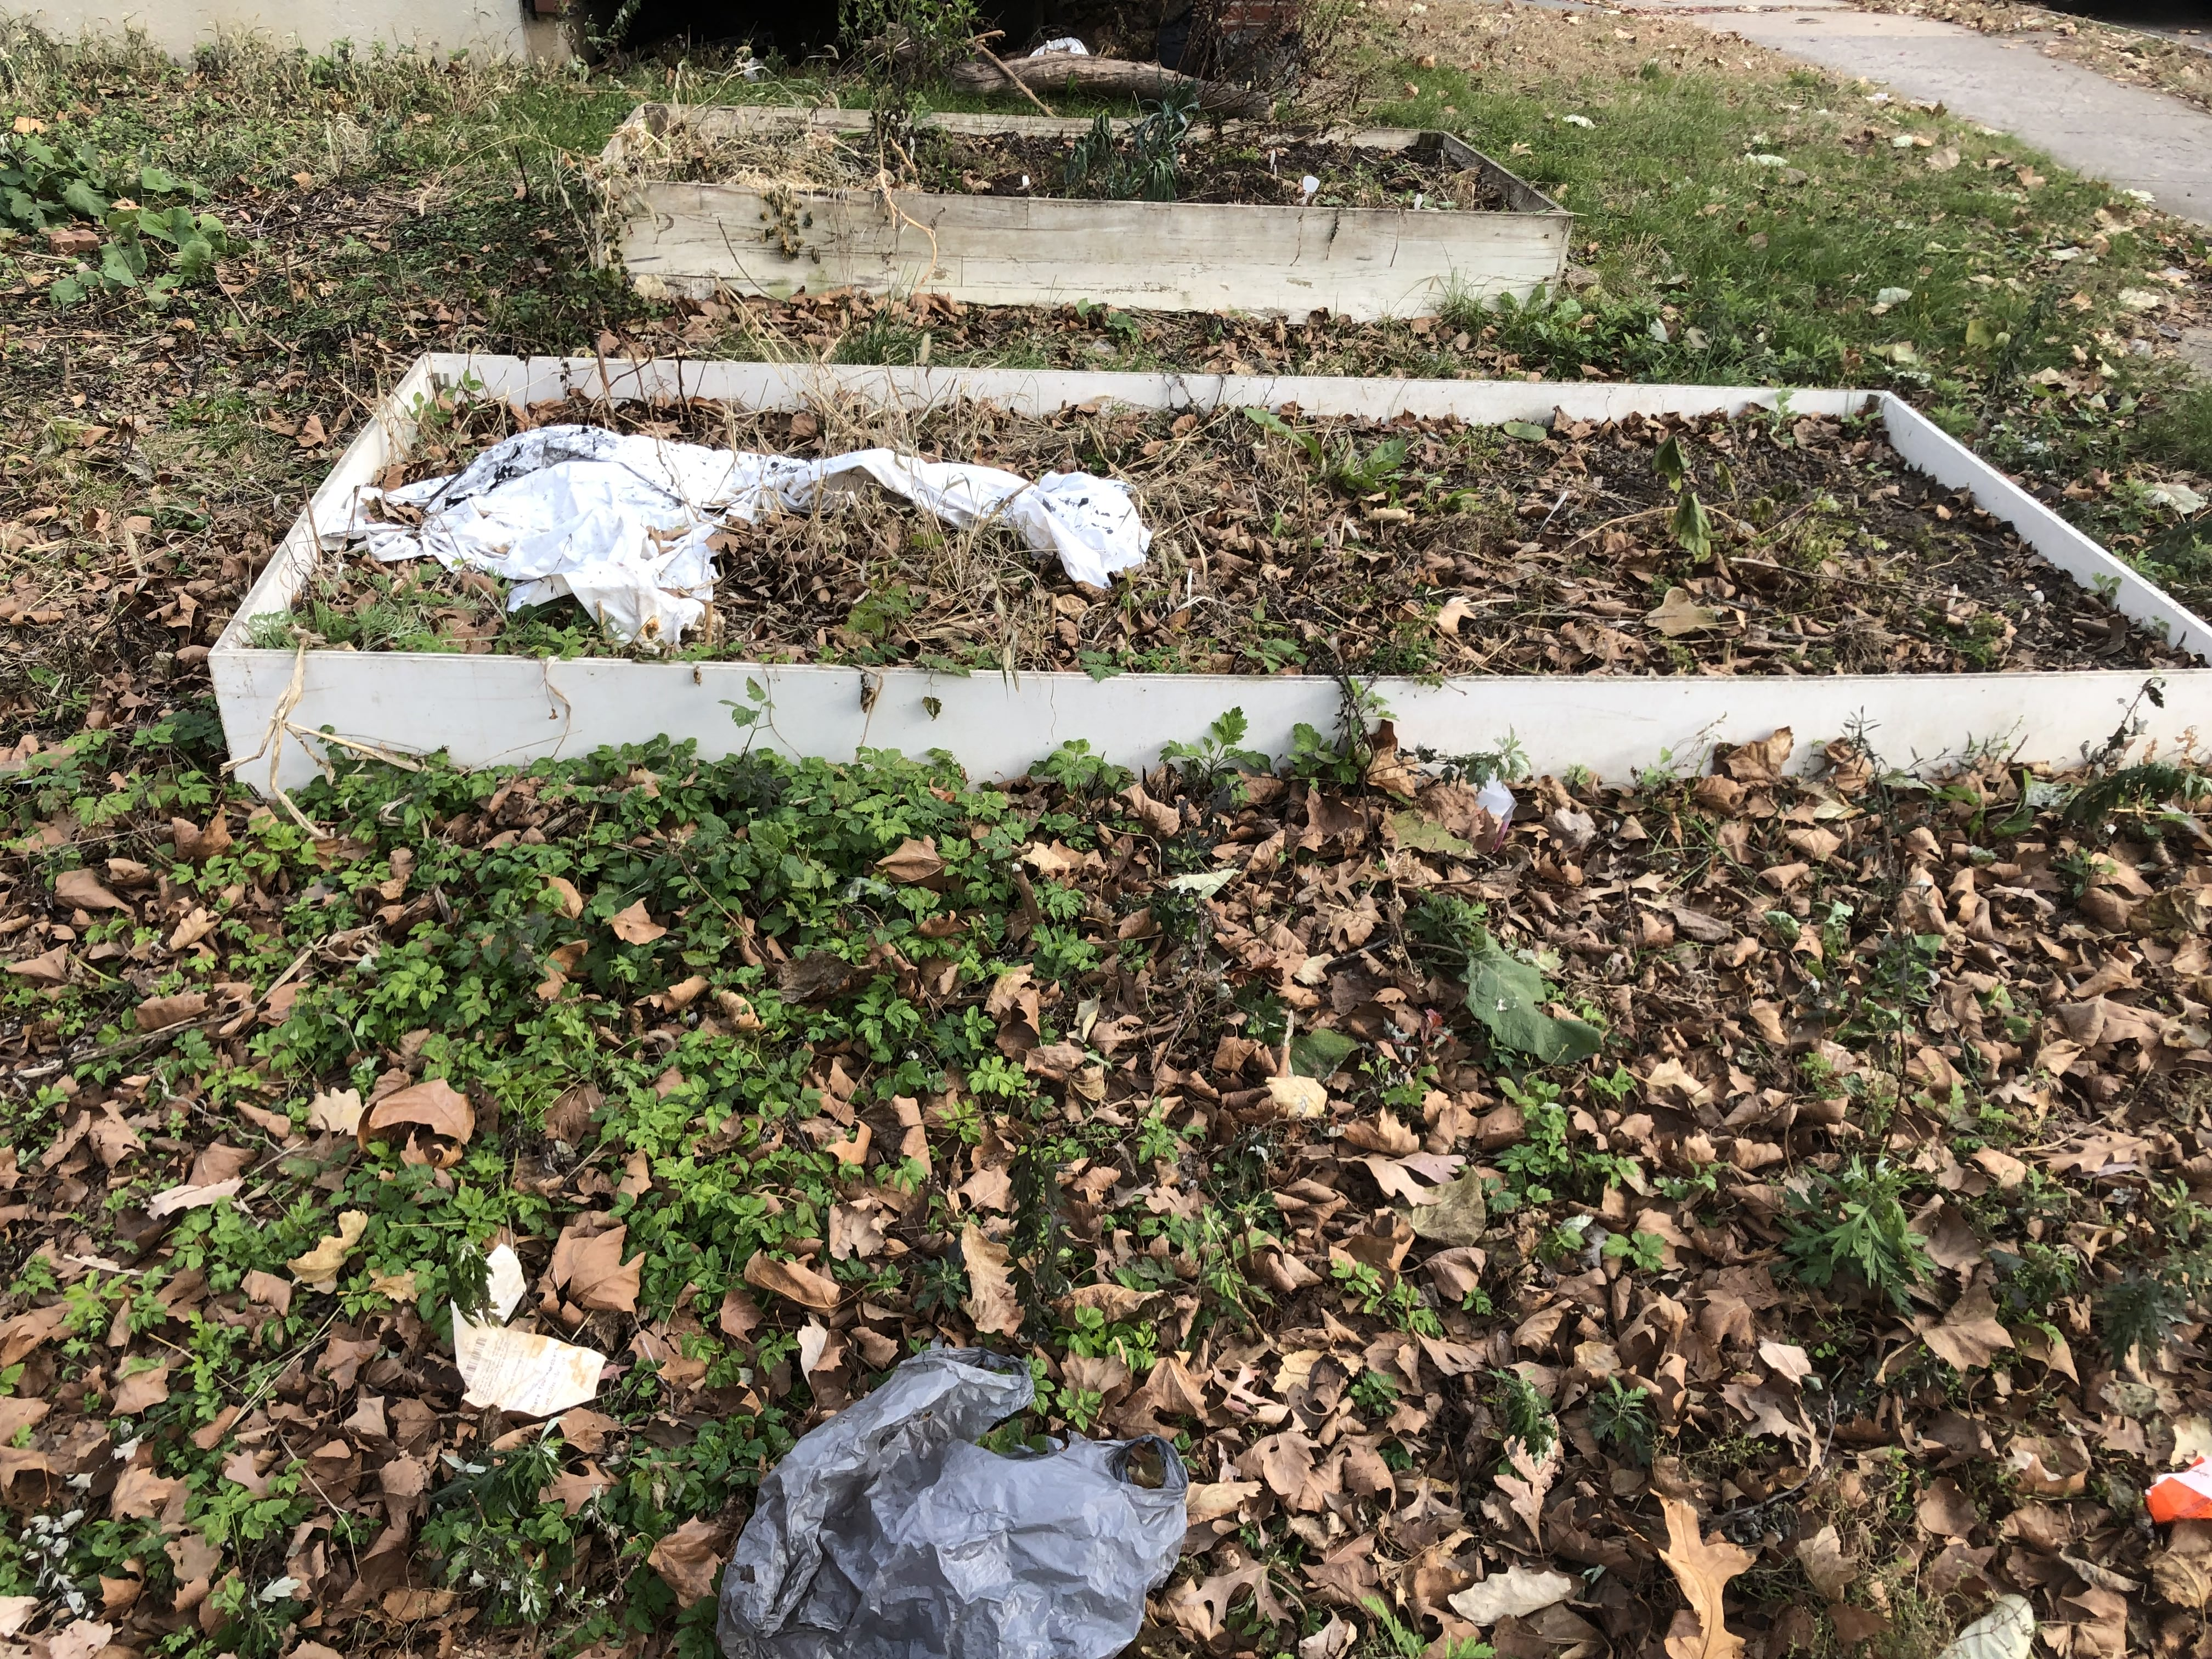raised_bed: (200, 326, 2212, 805), (571, 106, 1594, 328)
trash: (657, 1330, 1331, 1643), (387, 425, 1170, 633), (397, 1291, 646, 1438)
